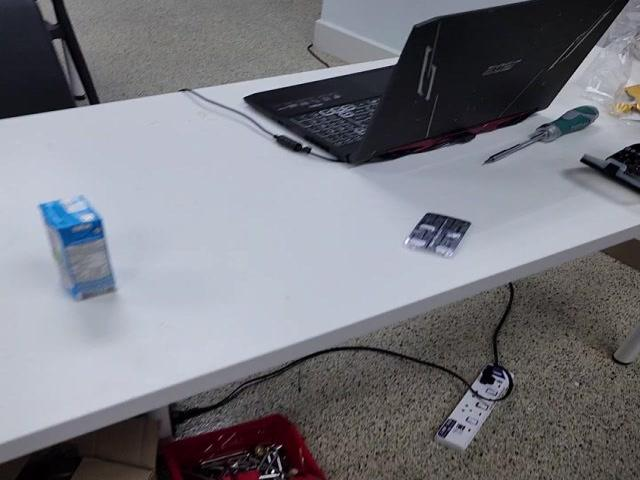drink_box: (30, 180, 126, 314)
